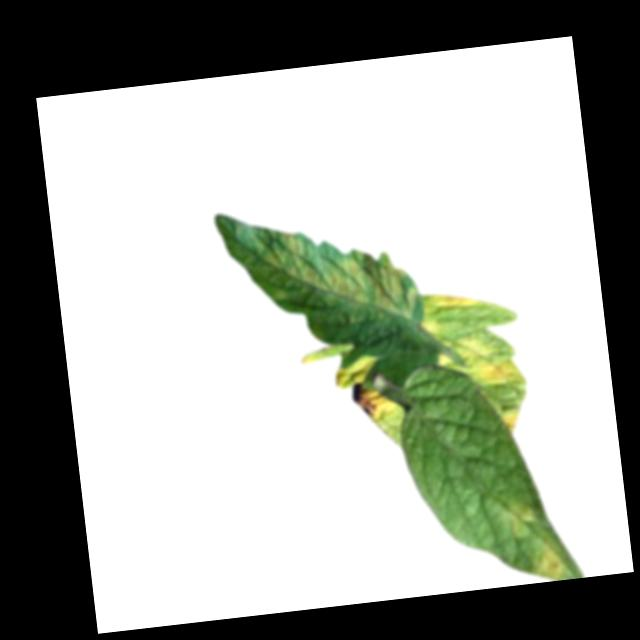Leaf_Mold: (251, 208, 420, 338), (434, 331, 525, 395), (333, 351, 398, 426), (426, 288, 486, 314), (529, 544, 566, 582), (503, 502, 539, 541), (499, 409, 523, 438)
